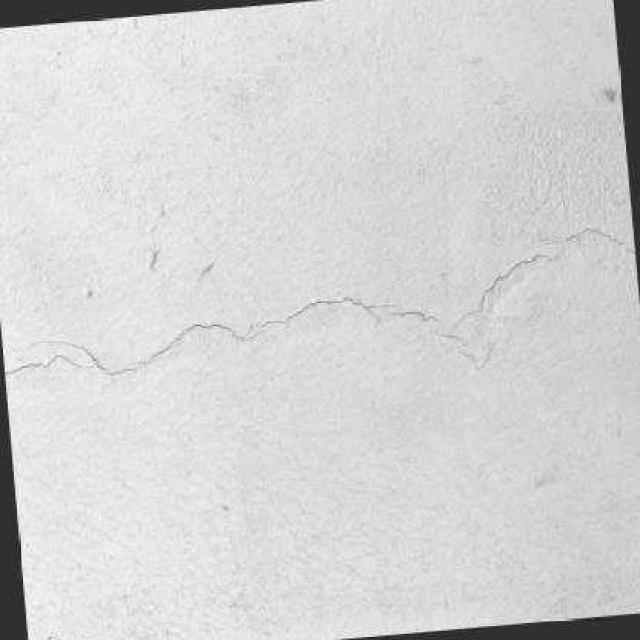D00: (3, 217, 636, 393)
